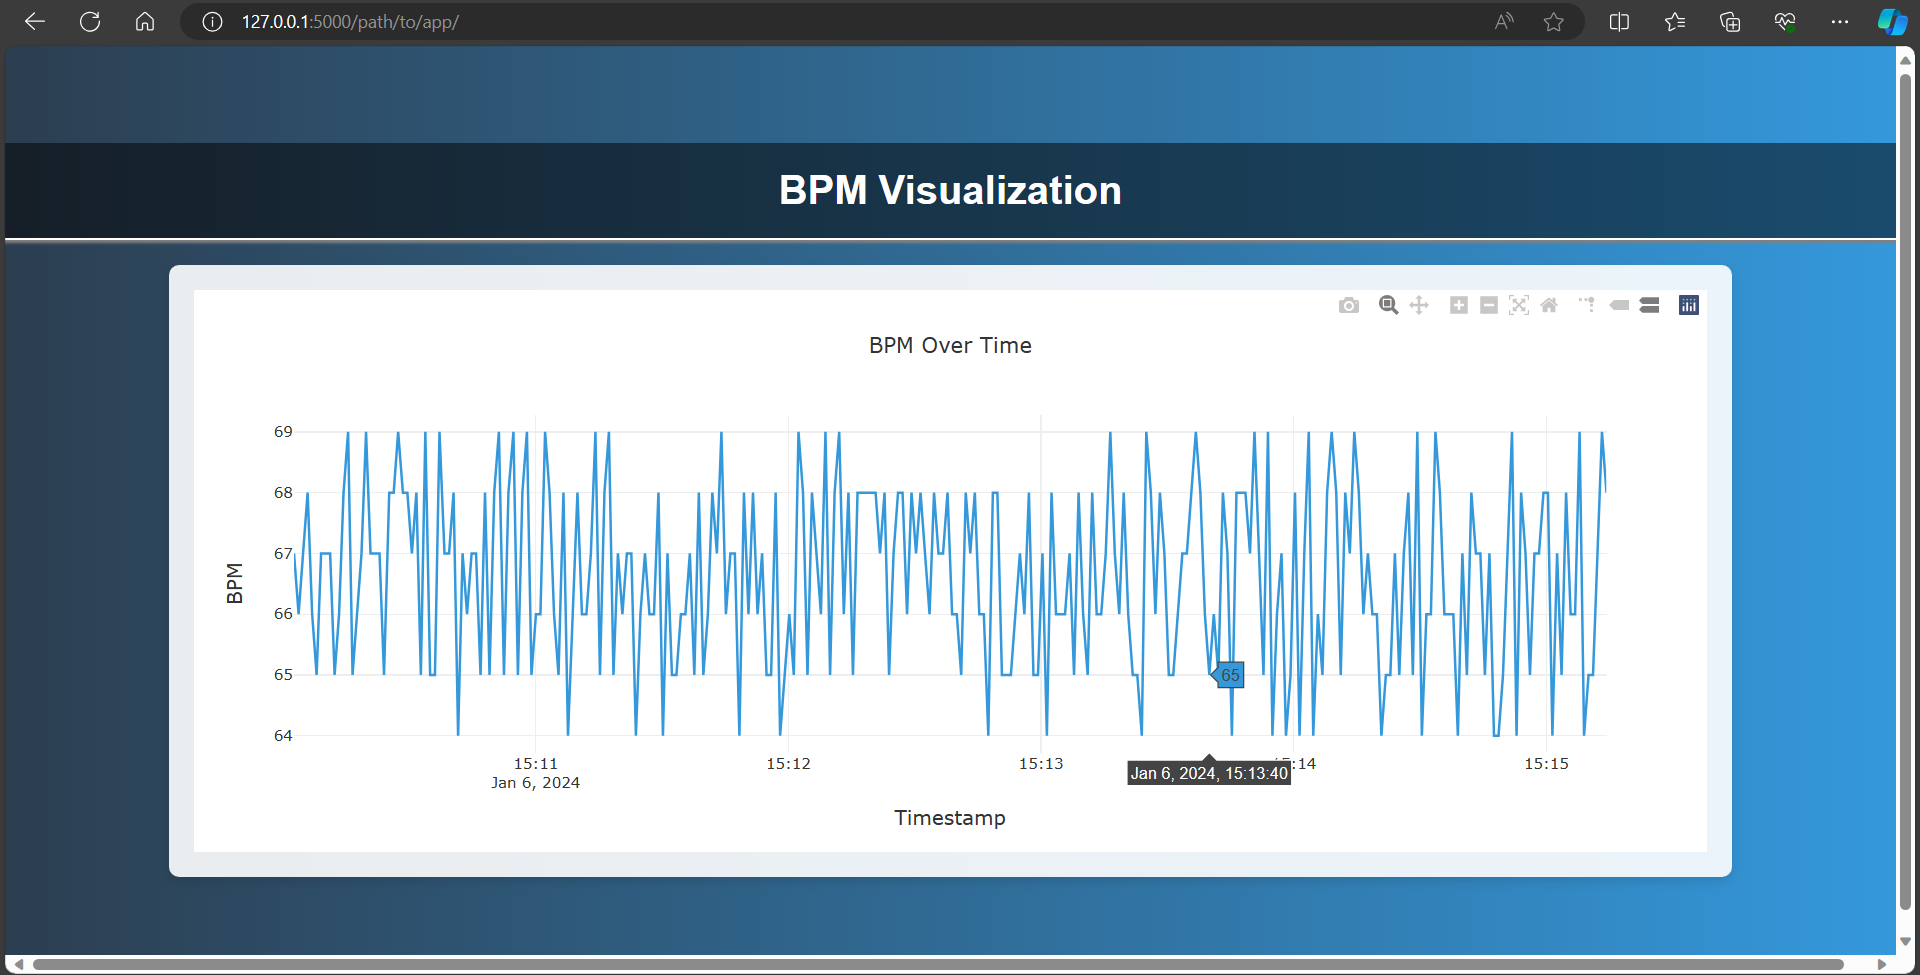

The dashboard page shown, as its layout file describes it:
{"tool":"powerbi","page":{"name":"Page 1","canvas":[1280,720],"ordinal":0},"visuals":[{"type":"lineChart","fields":{"Y":["Sum(sorted_data_1.Body.bpm)"],"Category":["sorted_data_1.EnqueuedTimeUtc.Variation.Date Hierarchy.Year","sorted_data_1.EnqueuedTimeUtc.Variation.Date Hierarchy.Quarter","sorted_data_1.EnqueuedTimeUtc.Variation.Date Hierarchy.Month","sorted_data_1.EnqueuedTimeUtc.Variation.Date Hierarchy.Day","sorted_data_1.SystemProperties.contentEncoding","sorted_data_1.SystemProperties.contentType","sorted_data_1.SystemProperties.enqueuedTime.Variation.Date Hierarchy.Year","sorted_data_1.SystemProperties.enqueuedTime.Variation.Date Hierarchy.Quarter","sorted_data_1.SystemProperties.enqueuedTime.Variation.Date Hierarchy.Month","sorted_data_1.SystemProperties.enqueuedTime.Variation.Date Hierarchy.Day","sorted_data_1.SystemProperties.messageId"],"Series":["sorted_data_1.SystemProperties.connectionAuthMethod"]},"box":[9.8,0,1270.1,720],"z":0}]}

Visuals, with their boxes on the page's 1280x720 design canvas (x1, y1, x2, y2). These are canvas units, not pixel positions in the 1920x975 screenshot, which may show the page scaled, cropped or inside an application window:
lineChart - Sum(sorted_data_1.Body.bpm) x sorted_data_1.EnqueuedTimeUtc.Variation.Date Hierarchy.Year: (10, 0, 1280, 720)
